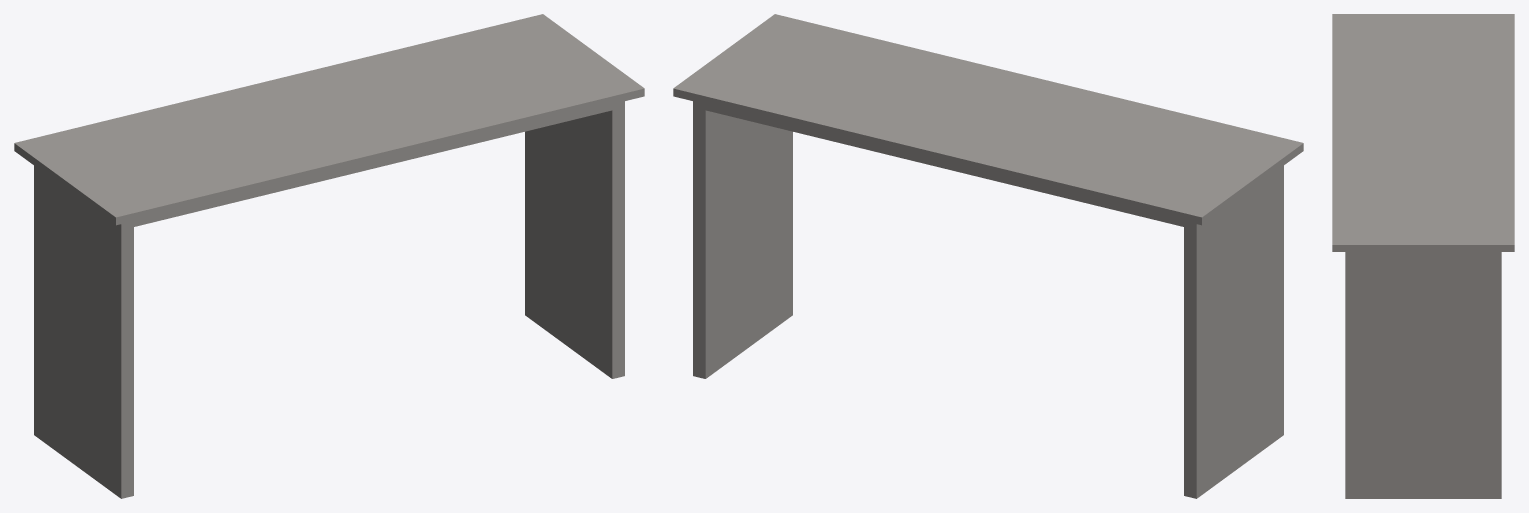
The model's file is SM_Props_Interior_Shop_Restaurant_Table_08.fbx.
3 views of the same model, side by side, from view 1: azimuth 30°, elevation 25°; view 2: azimuth 150°, elevation 25°; view 3: azimuth 270°, elevation 25° (orthographic). The views are drawn at different scales.
Parts seen in each view (by area): view 1: SM_Props_Interior_Shop_Restaurant_Table_08; view 2: SM_Props_Interior_Shop_Restaurant_Table_08; view 3: SM_Props_Interior_Shop_Restaurant_Table_08.
Part boxes in pixels (x1,y1,x2,y2): SM_Props_Interior_Shop_Restaurant_Table_08: (14,14,644,498); SM_Props_Interior_Shop_Restaurant_Table_08: (673,14,1303,498); SM_Props_Interior_Shop_Restaurant_Table_08: (1332,14,1514,498).
Bounding box in the file's own units: 210 × 110 × 70.
